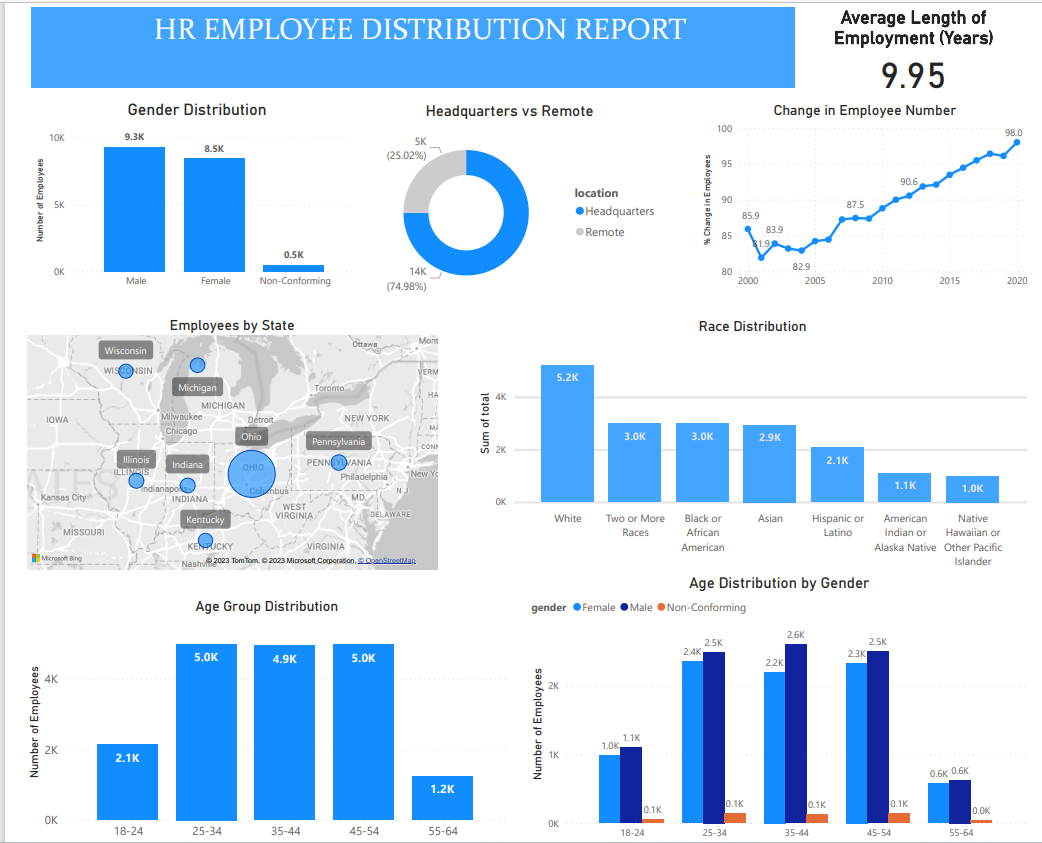

The page's visual inventory and layout, read from the dashboard file:
{"tool":"powerbi","page":{"name":"Page 1","canvas":[1280,1080],"ordinal":0},"visuals":[{"type":"textbox","box":[8.8,0,989.3,102.4],"z":0},{"type":"card","title":"Average Length of Employment (Years)","fields":{"Values":["Sum(length_of_employment.avg_length_employment)"]},"box":[981.2,0,298.3,112.1],"z":1000},{"type":"clusteredColumnChart","title":"Gender Distribution","fields":{"Category":["gender.gender"],"Y":["Sum(gender.total)"]},"box":[10,117.5,420.9,248.3],"z":2000,"group":"g1"},{"type":"map","title":"Employees by State","fields":{"Category":["state_distribution.location_state"],"Size":["Sum(state_distribution.total_employees)"]},"box":[0,392.5,530,327.5],"z":2000},{"type":"donutChart","title":"Headquarters vs Remote","fields":{"Category":["location.location"],"Y":["Sum(location.total)"]},"box":[418.8,119,396.7,262],"z":3000,"group":"g1"},{"type":"clusteredColumnChart","title":"Race Distribution","fields":{"Category":["race.race"],"Y":["Sum(race.total)"]},"box":[572.5,395,707.5,325],"z":3000},{"type":"lineChart","title":"Change in Employee Number","fields":{"Category":["net_change_employees.year"],"Y":["Sum(net_change_employees.net_change_percent)"]},"box":[858,119,422.5,246.8],"z":4000,"group":"g1"},{"type":"clusteredColumnChart","title":"Age Group Distribution","fields":{"Category":["age_group.age_group"],"Y":["Sum(age_group.total)"]},"box":[0,750,617.5,330],"z":4000},{"type":"clusteredColumnChart","title":"Age Distribution by Gender","fields":{"Category":["age_group_gender.age_group"],"Series":["age_group_gender.gender"],"Y":["Sum(age_group_gender.total)"]},"box":[640,720,640,360],"z":5000},{"type":"group","id":"g1","title":"Group 1","box":[10,117.5,1270,262.5],"z":6000}]}

Visuals, with their boxes on the page's 1280x1080 design canvas (x1, y1, x2, y2). These are canvas units, not pixel positions in the 1042x843 screenshot, which may show the page scaled, cropped or inside an application window:
textbox: l=9, t=0, r=998, b=102
"Average Length of Employment (Years)" card: l=981, t=0, r=1280, b=112
"Gender Distribution" clusteredColumnChart: l=10, t=118, r=431, b=366
"Employees by State" map: l=0, t=392, r=530, b=720
"Headquarters vs Remote" donutChart: l=419, t=119, r=816, b=381
"Race Distribution" clusteredColumnChart: l=572, t=395, r=1280, b=720
"Change in Employee Number" lineChart: l=858, t=119, r=1280, b=366
"Age Group Distribution" clusteredColumnChart: l=0, t=750, r=618, b=1080
"Age Distribution by Gender" clusteredColumnChart: l=640, t=720, r=1280, b=1080
"Group 1" group: l=10, t=118, r=1280, b=380
